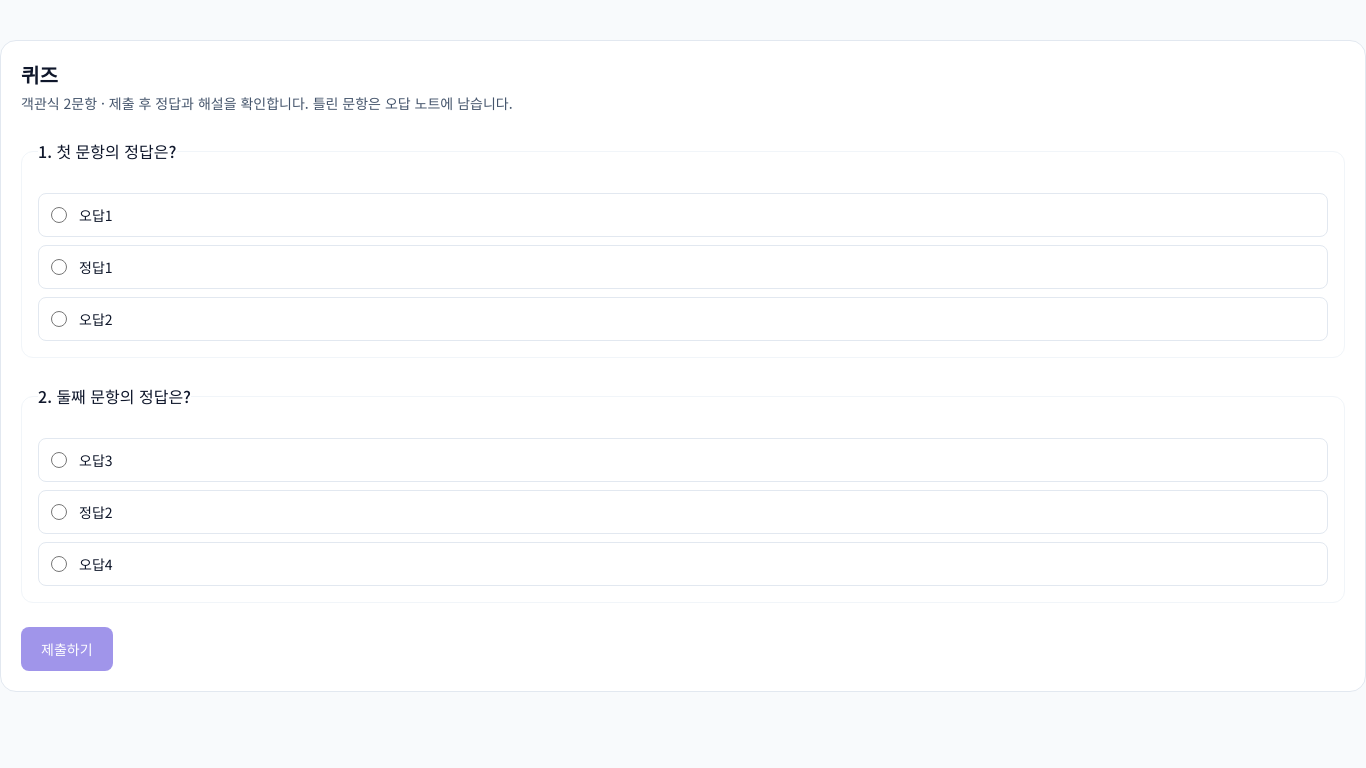
Test: freezes submitted score and retries only wrong questions
Click the radio button labelled "정답1".
click(59, 267)  # box [51,259,67,275]
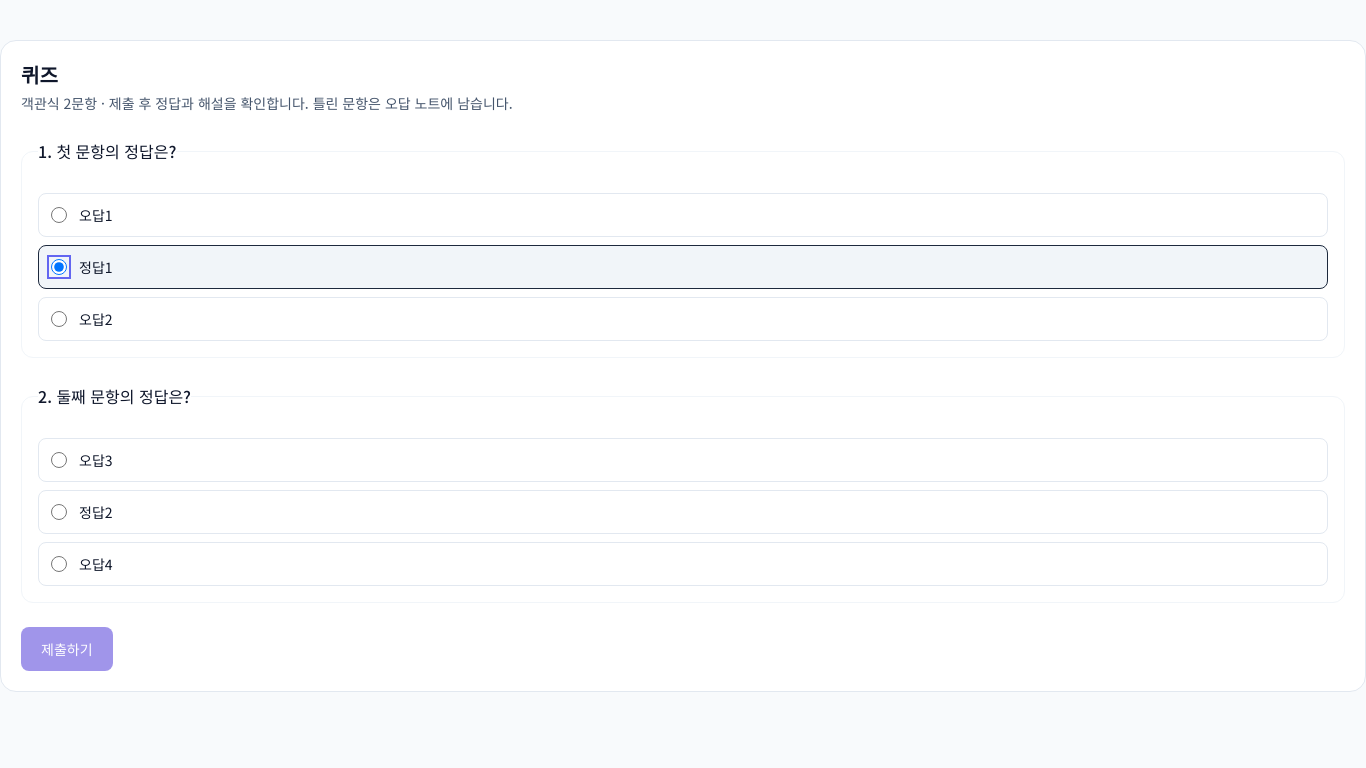
Click the radio button labelled "오답3".
click(59, 460)  # box [51,452,67,468]
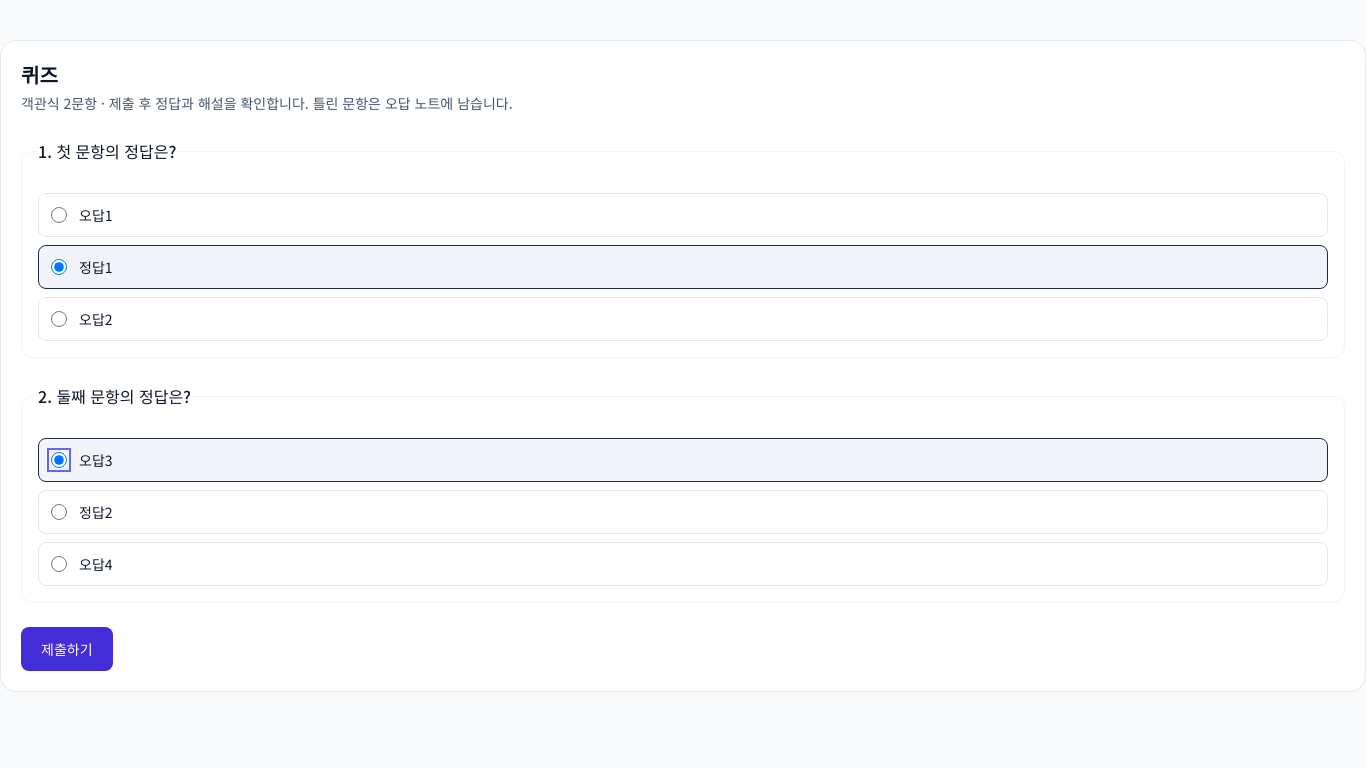
Click the button "제출하기".
click(67, 649)  # box [21,627,112,671]
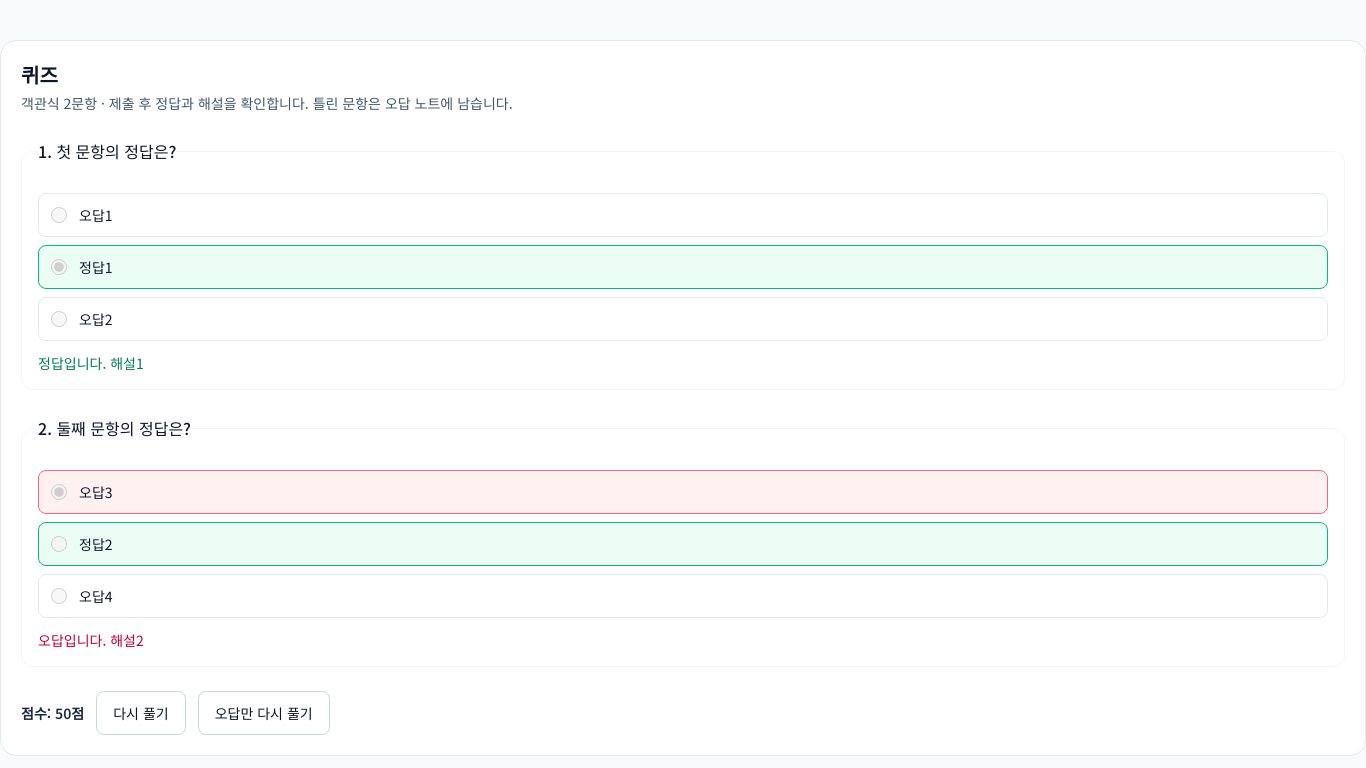
expect the message shows "50점": met, box [21,703,84,723]
Click the button "오답만 다시 풀기".
click(264, 713)  # box [198,691,330,735]
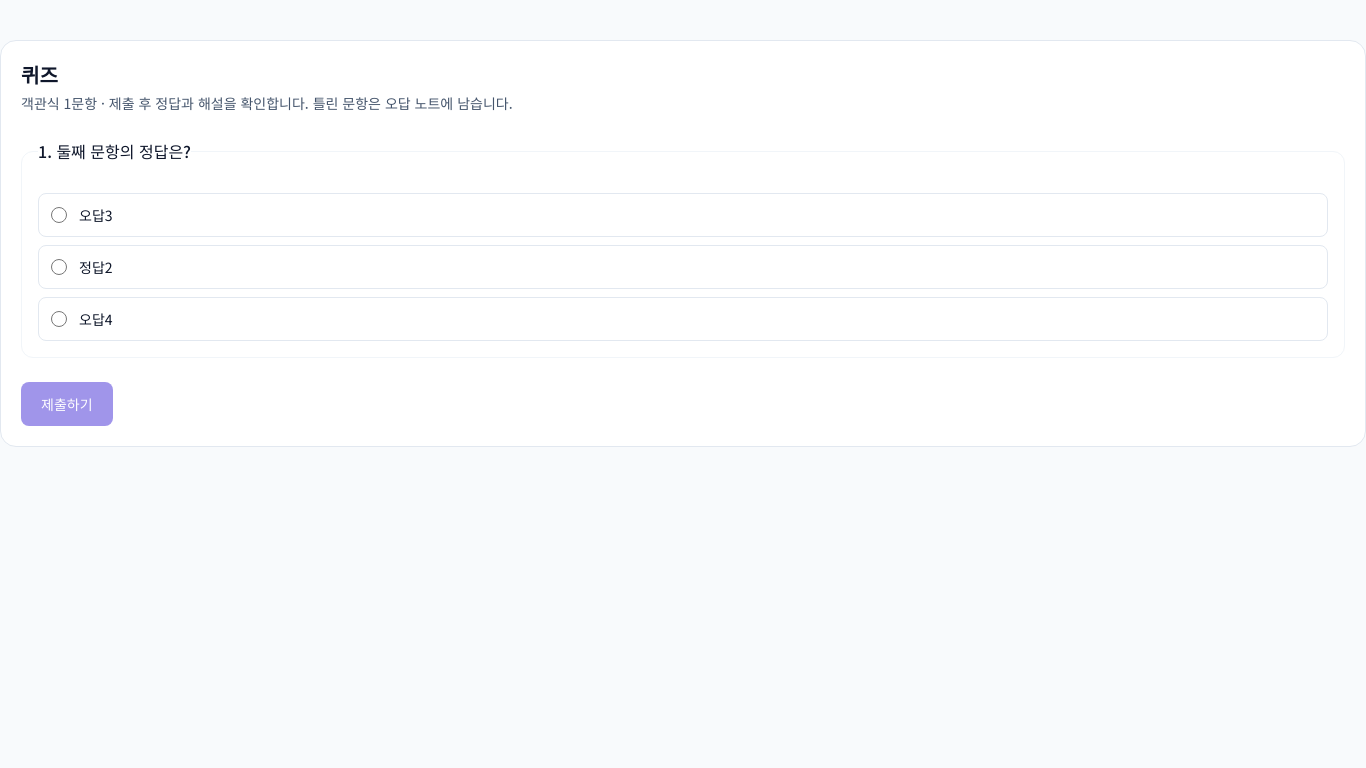
expect the text "1. 둘째 문항의 정답은?" is shown: met, box [38,137,191,165]
expect the text "첫 문항" is gone: met
